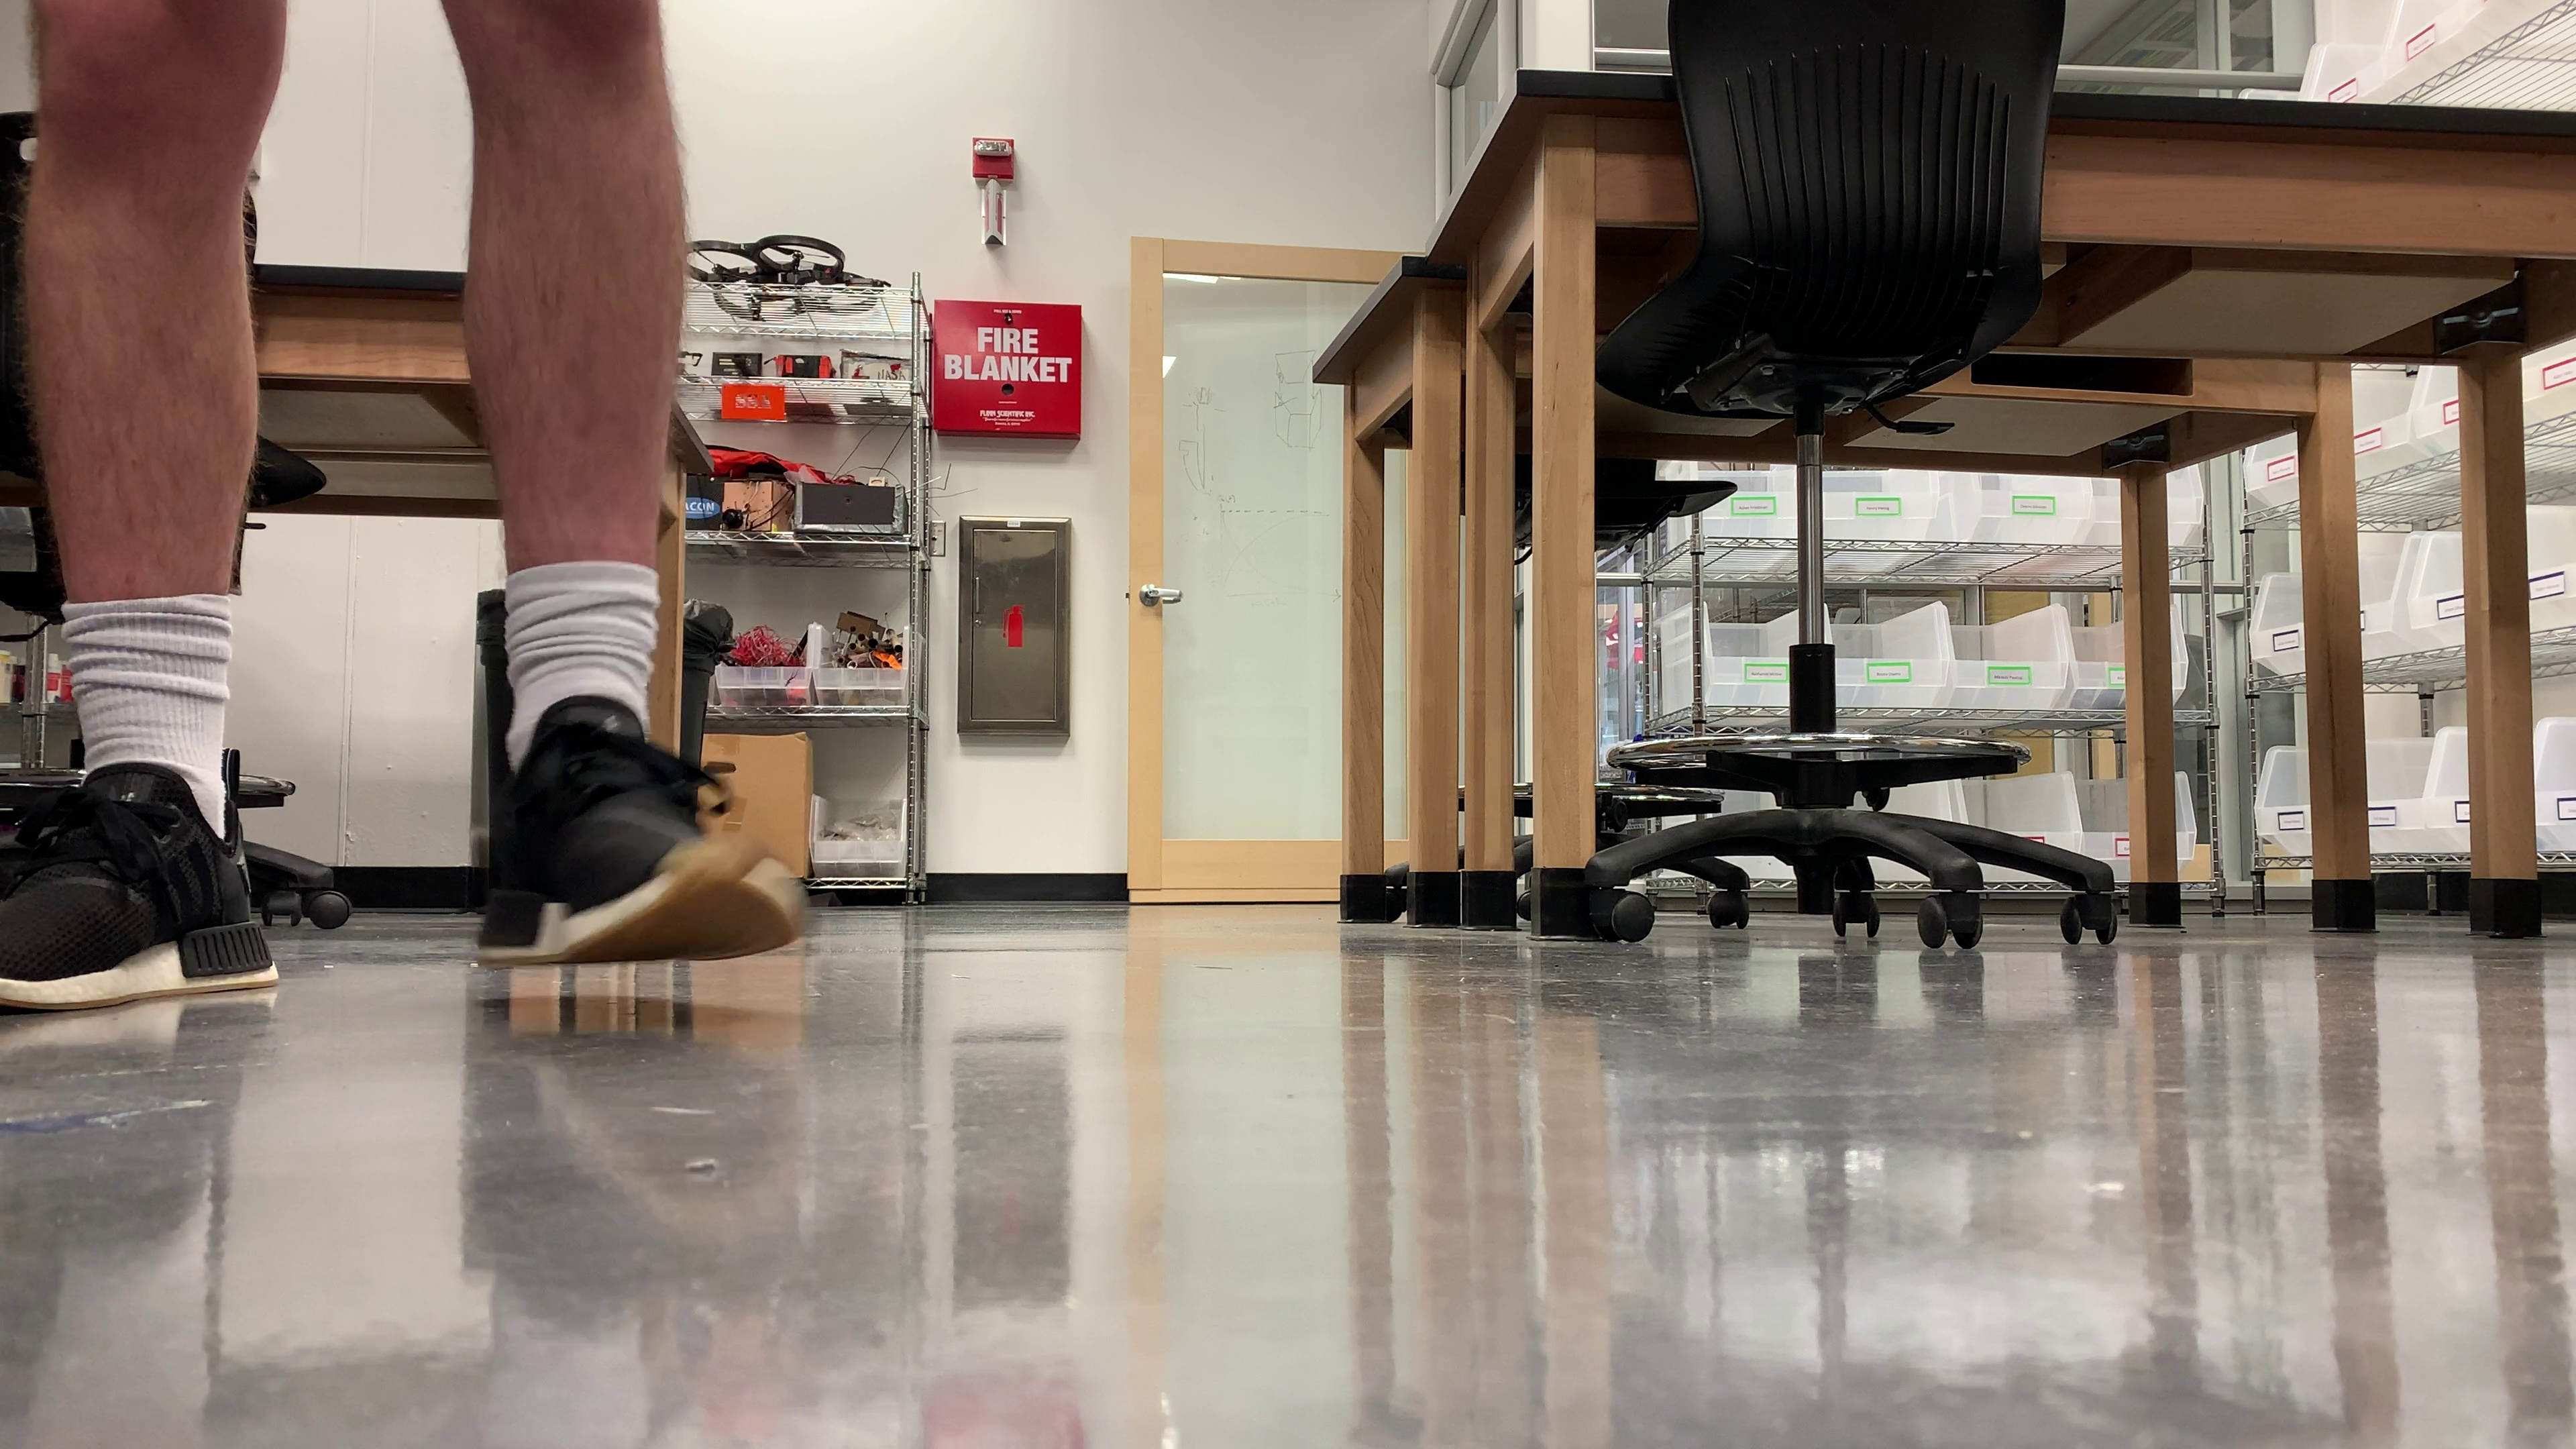shoe: (476, 697, 803, 957), (0, 759, 280, 1016)
